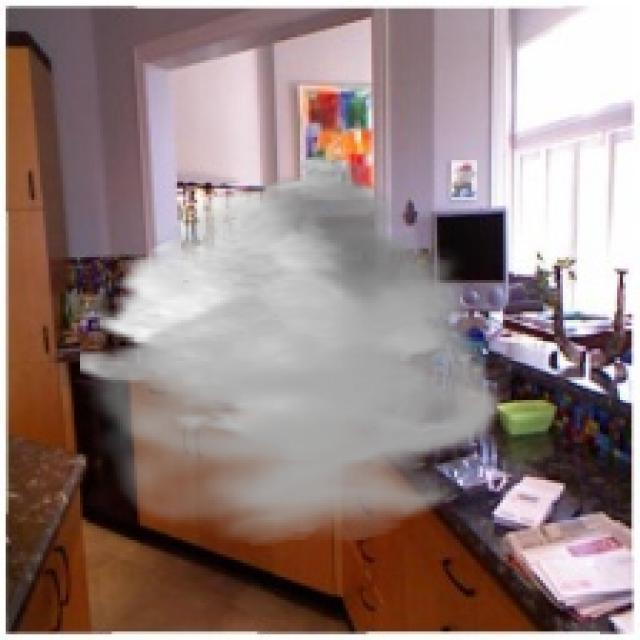smoke: (80, 151, 506, 546)
